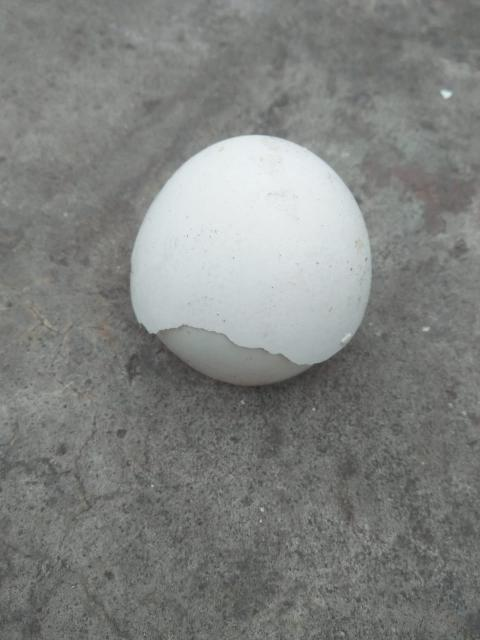Roto: (128, 133, 372, 387)
